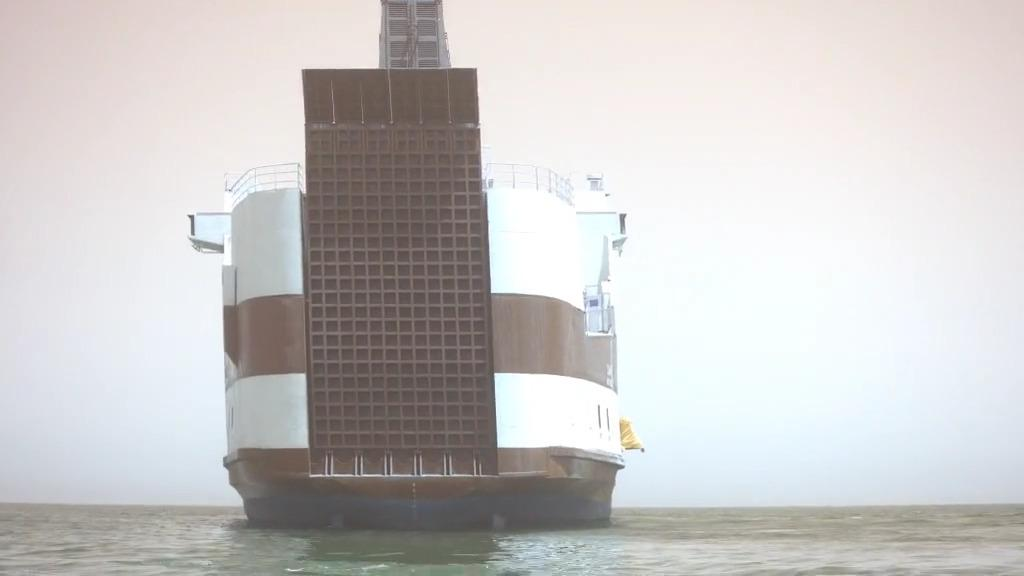PassengerShip: (174, 0, 650, 536)
